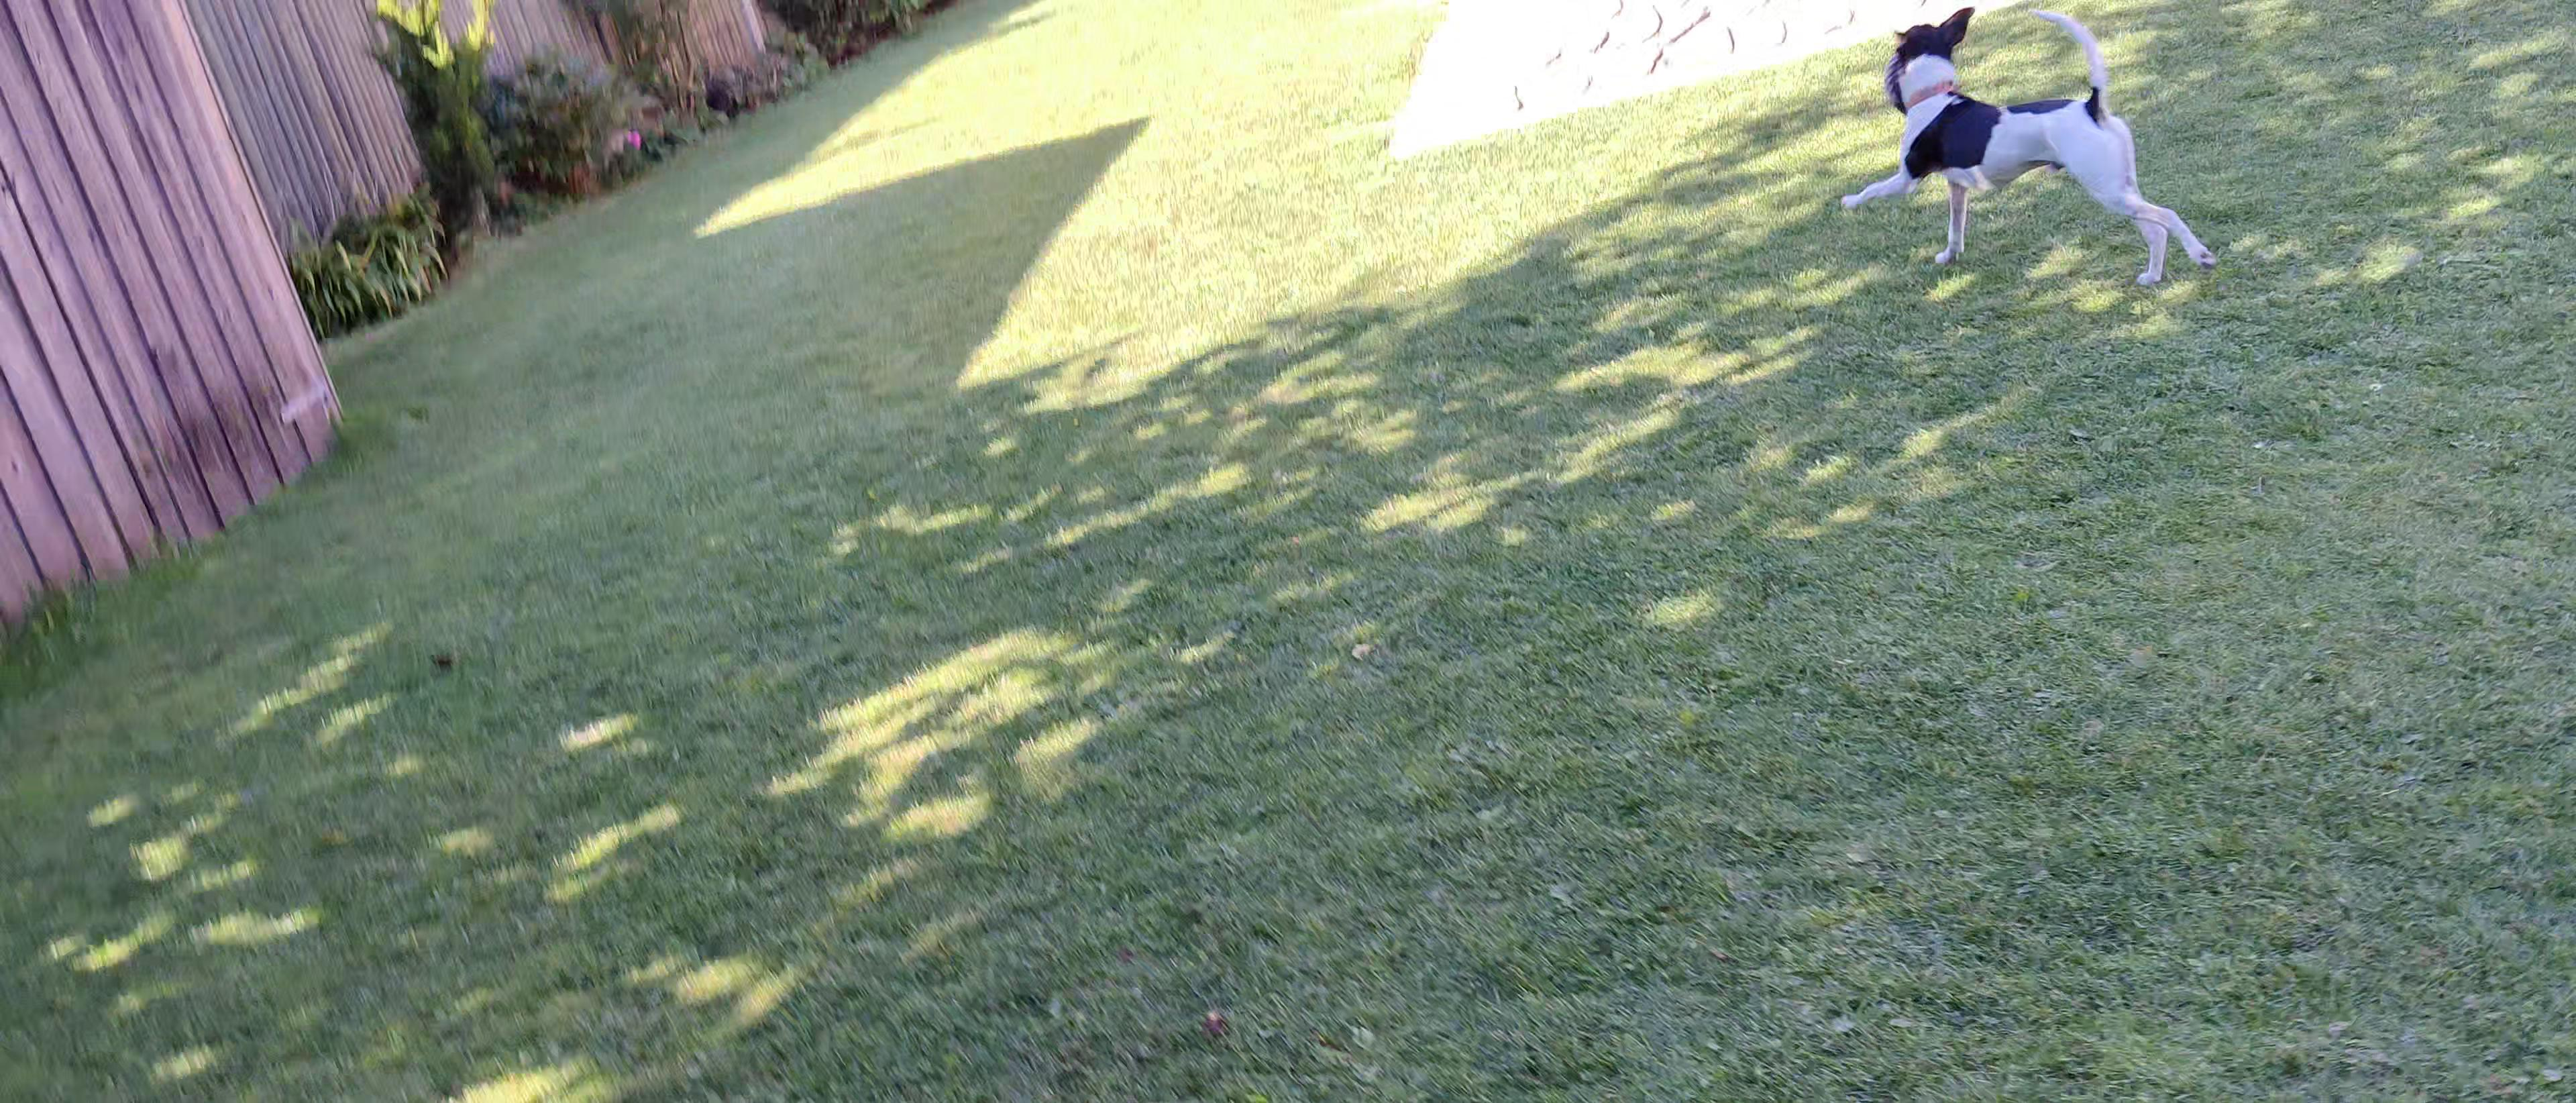Dog: (1833, 3, 2233, 284)
